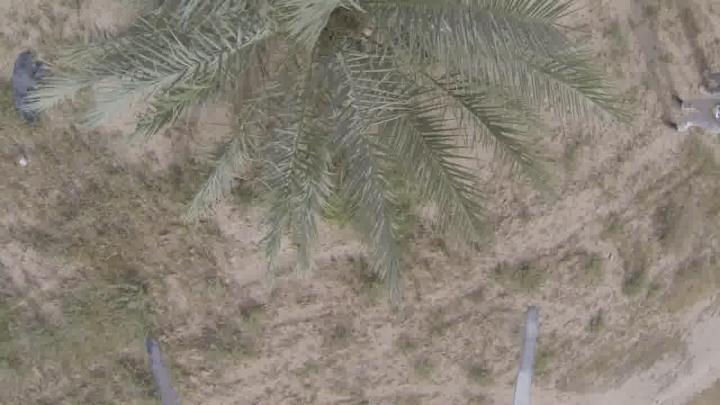Date-Palm-Crown: (154, 1, 514, 202)
